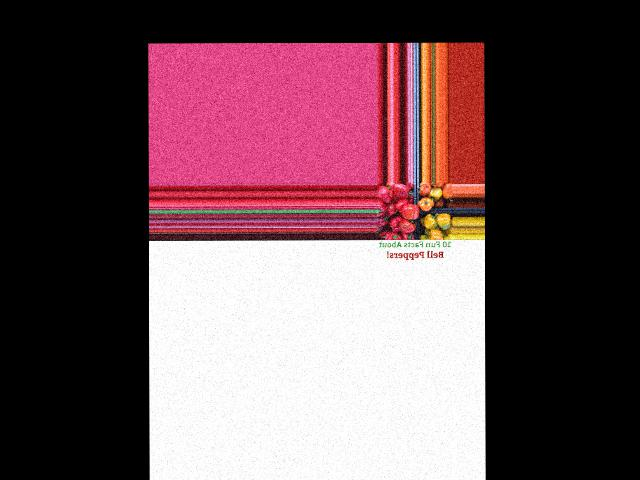bell_pepper: (384, 228, 405, 242)
